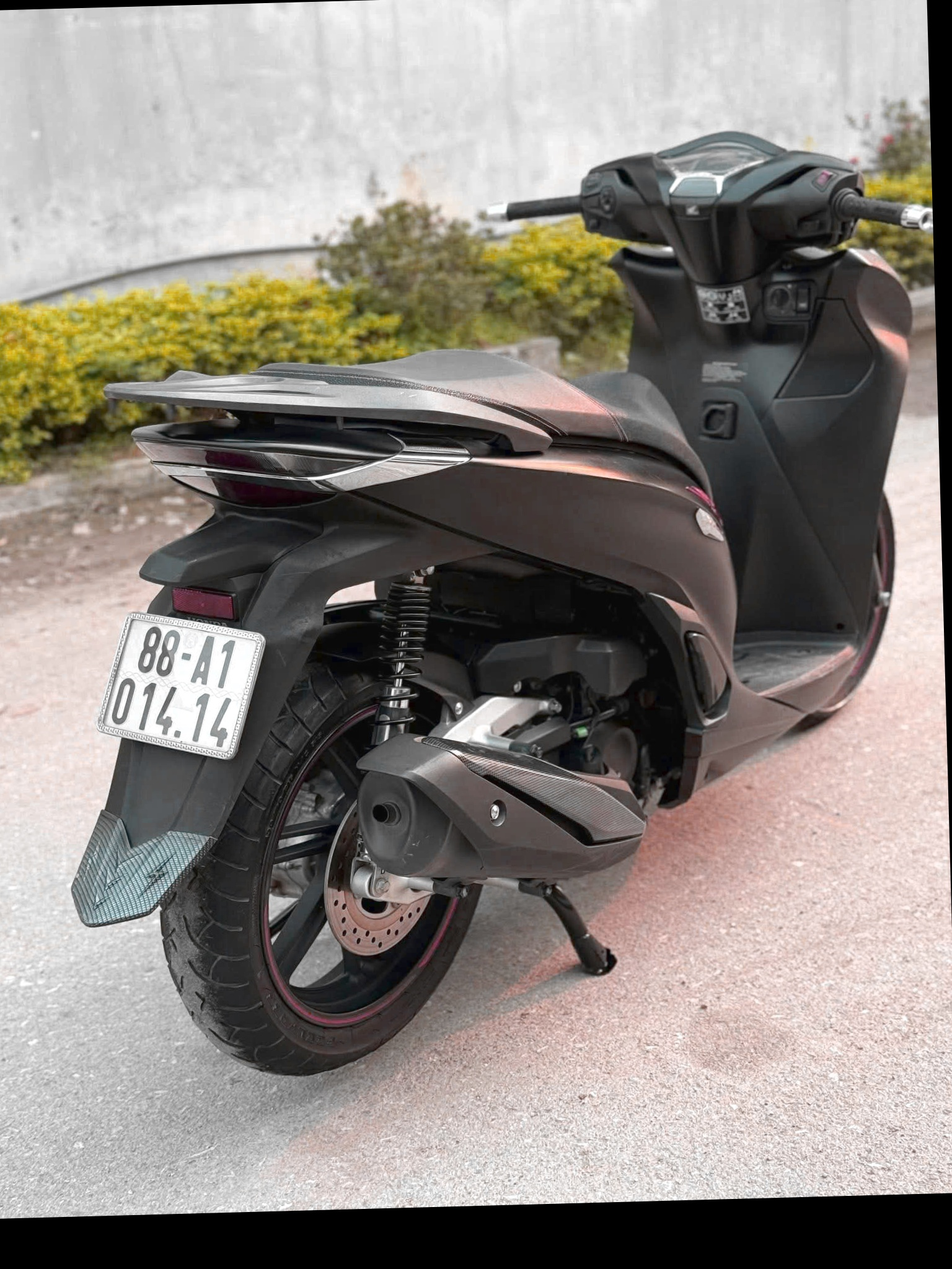Bien-so: (123, 630, 300, 796)
